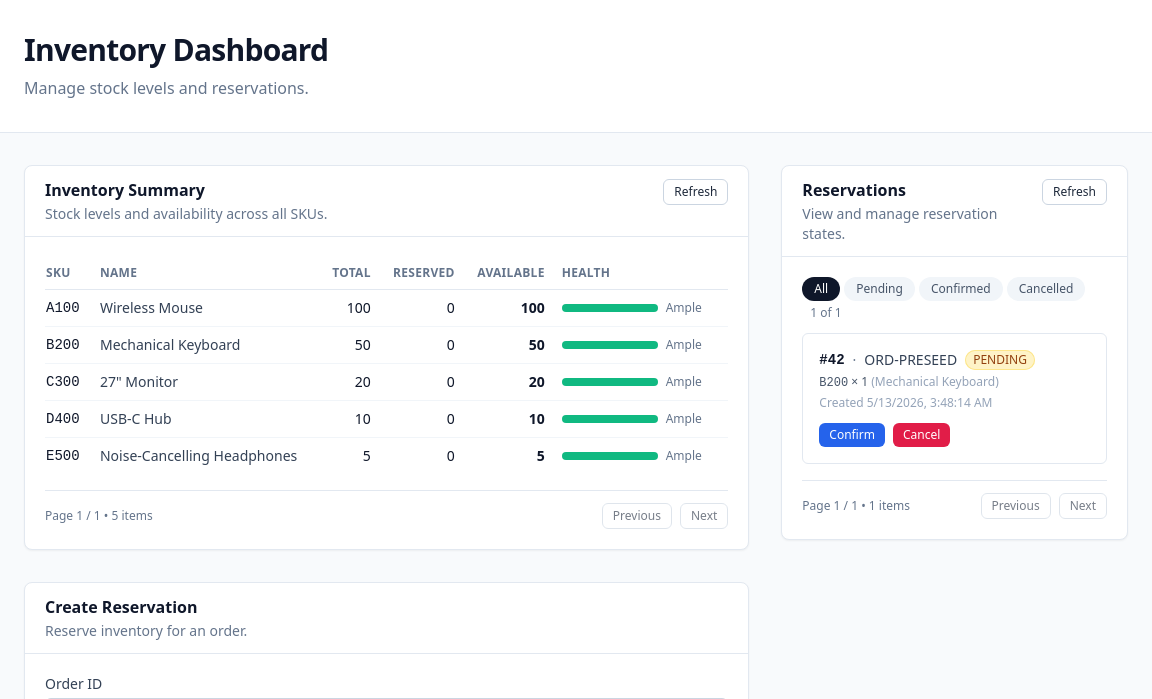
Test: App integration › confirms a reservation from the list and updates status
Expected: the text "ORD-PRESEED" is shown, top-left (864, 350), bottom-right (957, 370)
Click the button "Confirm" at (852, 435), box top-left (819, 423), bottom-right (885, 447)
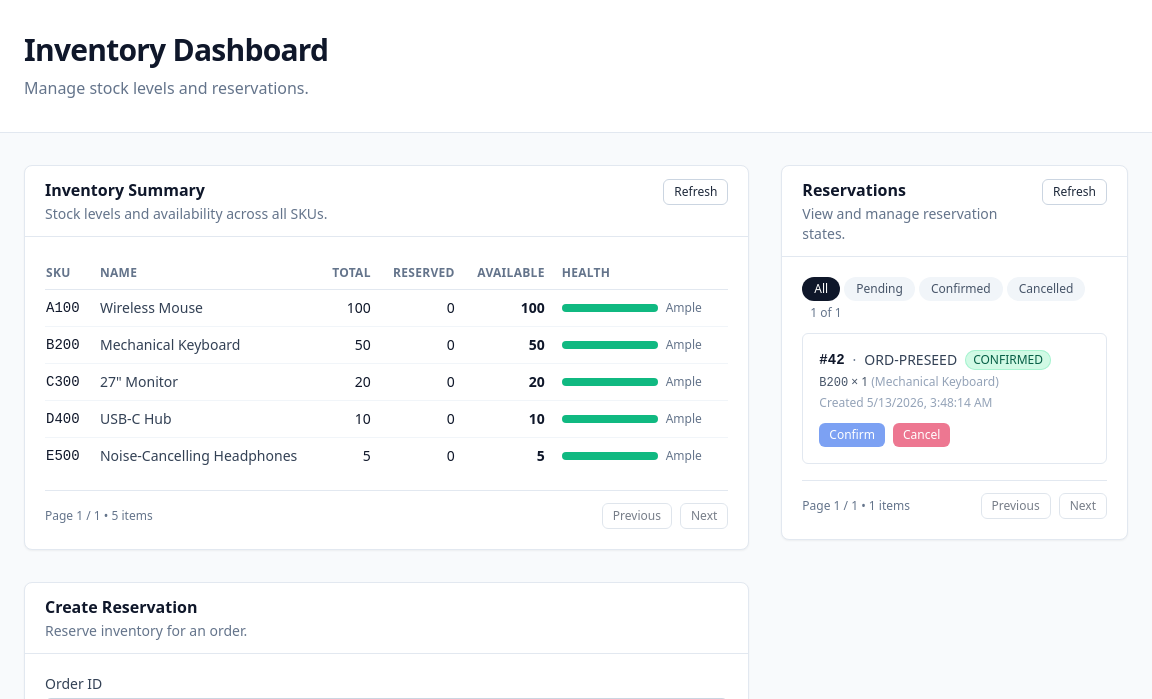
Now the text "CONFIRMED" is shown, box top-left (965, 350), bottom-right (1051, 370)
